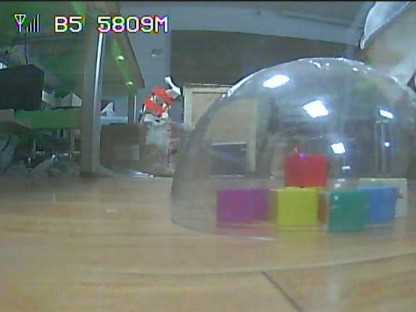b: (363, 186, 393, 221)
g: (327, 191, 368, 230)
r: (278, 151, 327, 186)
